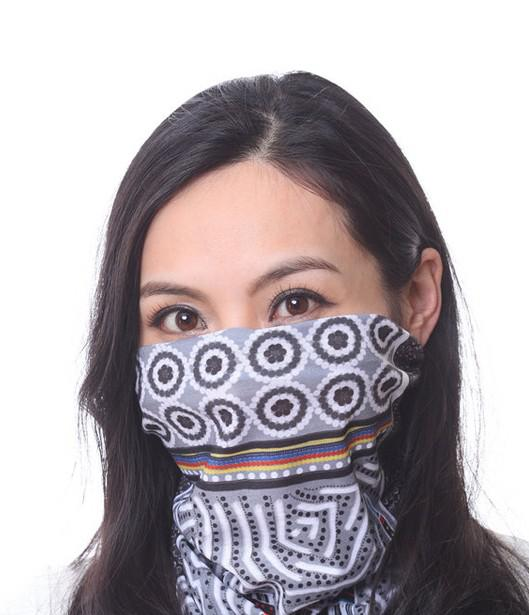OK: (140, 252, 377, 489)
